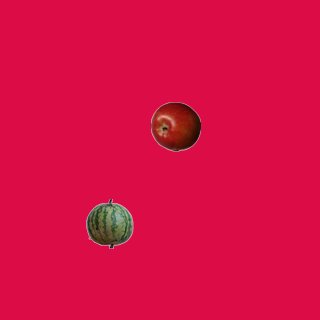Apple Braeburn: (150, 101, 200, 151)
Watermelon: (84, 198, 134, 248)
